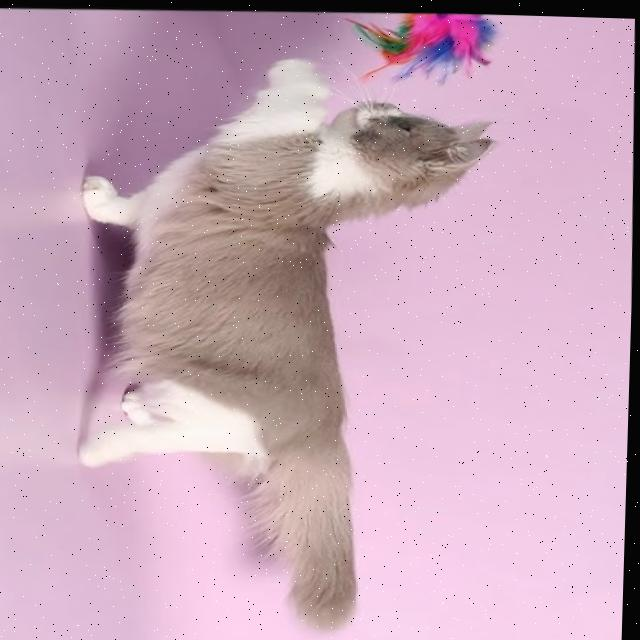Munchkin: (61, 45, 511, 640)
